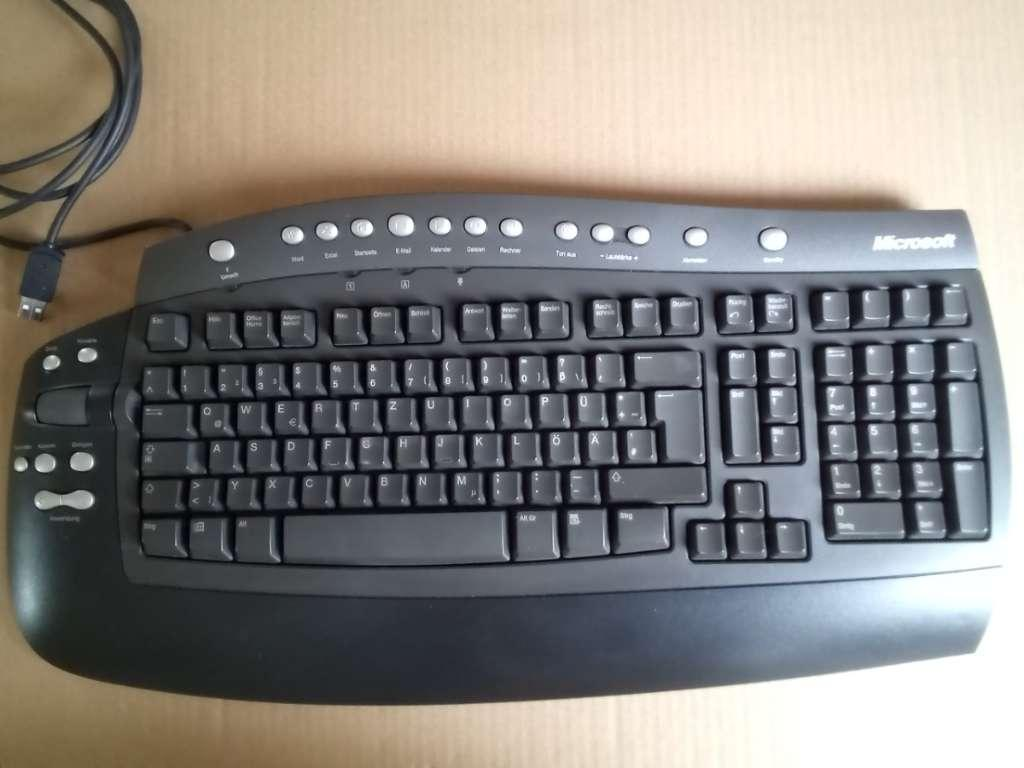0: (513, 351, 543, 386)
1: (176, 361, 205, 396)
2: (214, 360, 242, 393)
3: (251, 359, 279, 392)
4: (288, 358, 316, 391)
5: (325, 357, 354, 390)
6: (362, 355, 391, 389)
7: (400, 355, 432, 389)
8: (438, 353, 468, 388)
9: (475, 352, 505, 387)
a: (206, 436, 233, 471)
accent: (591, 349, 620, 383)
ae: (584, 426, 612, 460)
alt-left: (232, 511, 270, 559)
altgr-right: (509, 505, 554, 558)
b: (373, 468, 402, 503)
c: (298, 471, 326, 504)
caret: (139, 363, 168, 396)
comma: (488, 466, 516, 501)
d: (280, 434, 308, 467)
del: (629, 347, 698, 382)
e: (271, 396, 300, 431)
enter: (648, 385, 701, 460)
f: (317, 433, 345, 466)
g: (355, 432, 383, 464)
h: (392, 431, 421, 464)
hash: (622, 425, 650, 459)
i: (459, 391, 486, 424)
j: (431, 430, 458, 463)
k: (469, 429, 497, 463)
keyboard: (97, 192, 1003, 599)
l: (507, 428, 535, 462)
less: (185, 473, 215, 507)
m: (449, 468, 480, 502)
minus: (565, 464, 593, 499)
n: (411, 468, 440, 502)
o: (495, 390, 523, 423)
oe: (544, 427, 573, 461)
p: (533, 388, 564, 423)
plus: (610, 387, 641, 422)
point: (526, 465, 555, 500)
q: (195, 399, 224, 433)
r: (307, 395, 336, 429)
s: (242, 435, 270, 469)
shift-left: (138, 476, 179, 511)
shift-lock: (139, 437, 199, 473)
shift-right: (603, 462, 706, 500)
space: (281, 506, 503, 565)
ss: (550, 350, 582, 385)
strg-left: (139, 516, 176, 555)
strg-right: (610, 504, 668, 551)
t: (346, 394, 373, 427)
tab: (140, 399, 186, 433)
u: (420, 392, 449, 426)
ue: (571, 387, 602, 423)
v: (336, 469, 364, 504)
w: (233, 397, 260, 430)
x: (261, 471, 289, 505)
y: (224, 473, 251, 506)
z: (383, 393, 411, 426)
